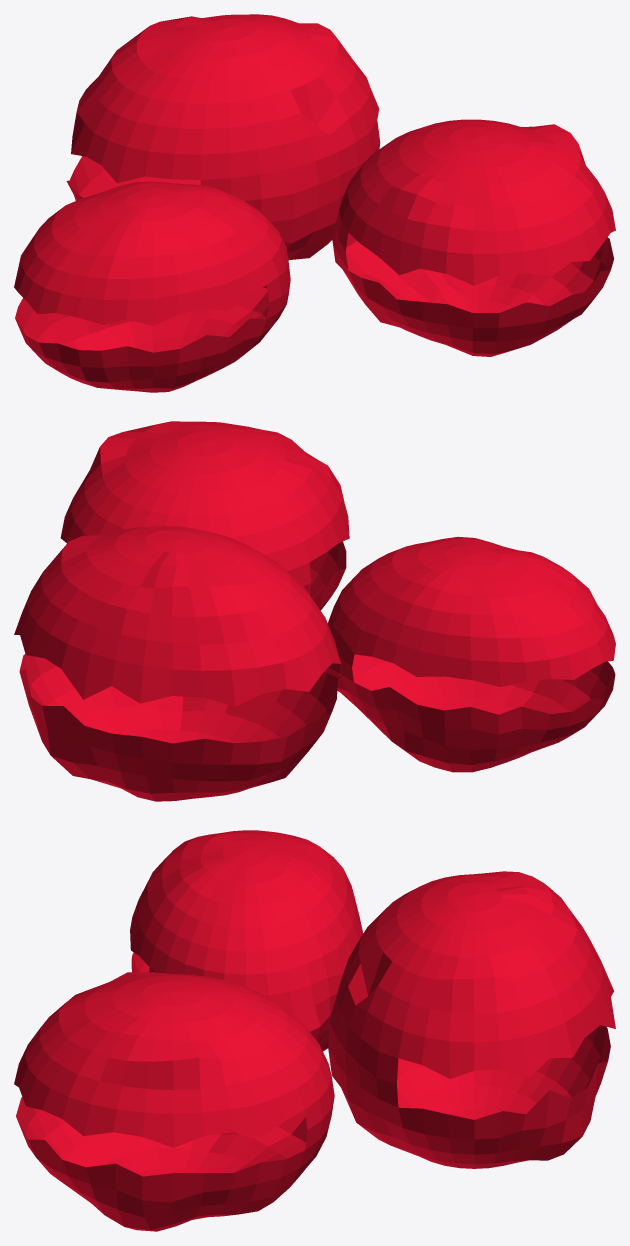
File: san.glb
3 views of the same model, one above another, from view 1: azimuth 30°, elevation 25°; view 2: azimuth 150°, elevation 25°; view 3: azimuth 270°, elevation 25° (orthographic). The views are drawn at different scales.
Visible parts, largest first — view 1: Sphere; view 2: Sphere; view 3: Sphere.
Part boxes in pixels (x1,y1,x2,y2): Sphere: [14, 14, 615, 392]; Sphere: [14, 421, 615, 801]; Sphere: [14, 830, 615, 1231].
Bounding box in the file's own units: 7.27 × 3.06 × 6.53.
